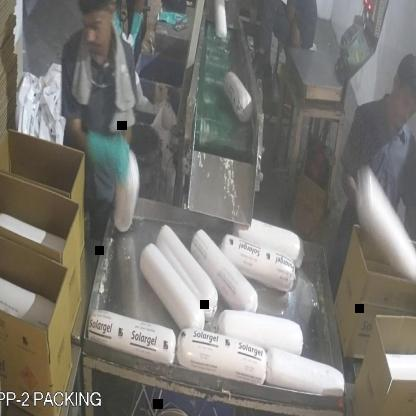glove: (80, 121, 133, 191)
no_glove: (332, 147, 370, 239), (406, 207, 416, 289)
